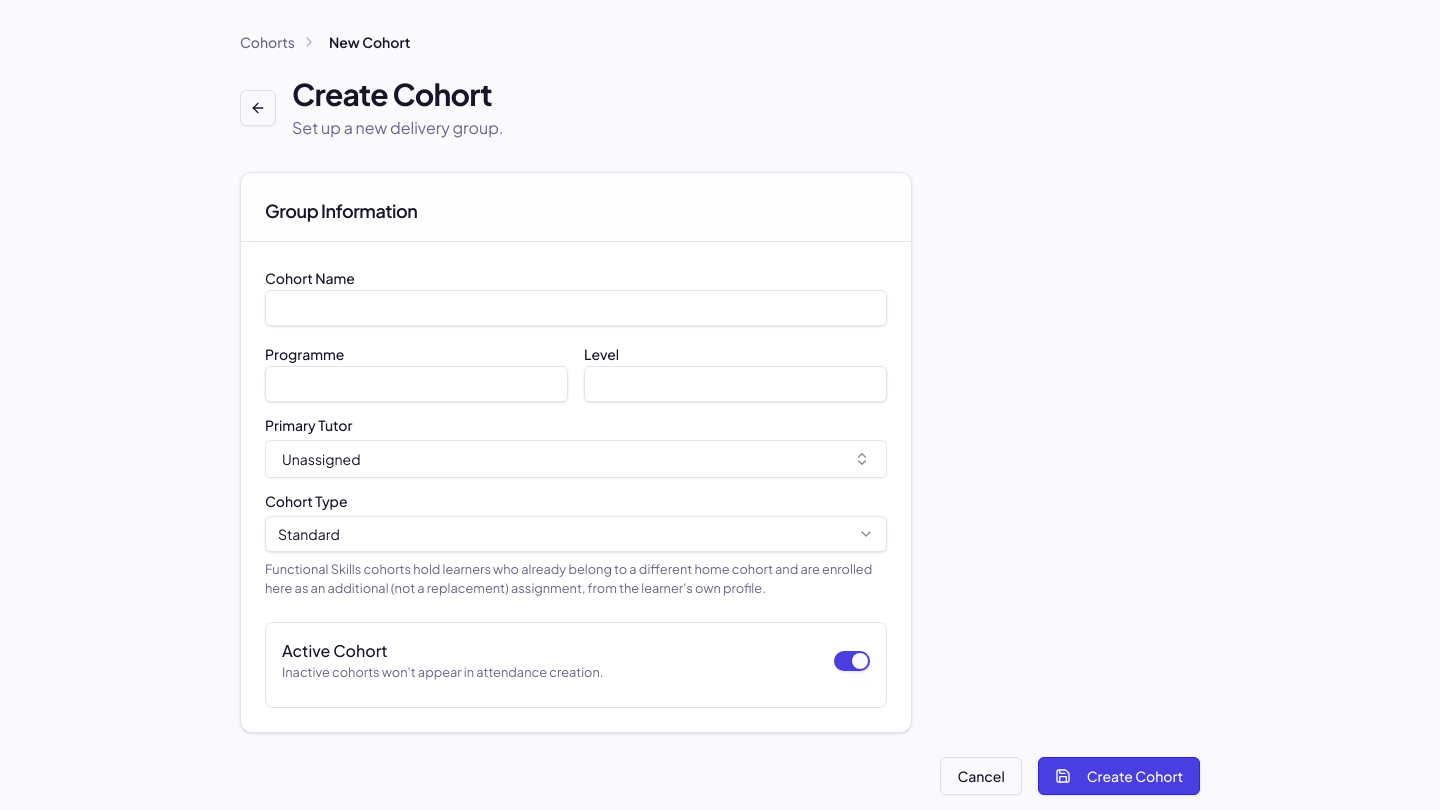
Test: CohortDetailPage primary tutor field › lets a tutor far down a long list be found by typing, instead of only scrolling a fixed-height list
Click the dropdown named "primary tutor".
click(321, 459)  # box [265, 440, 887, 478]
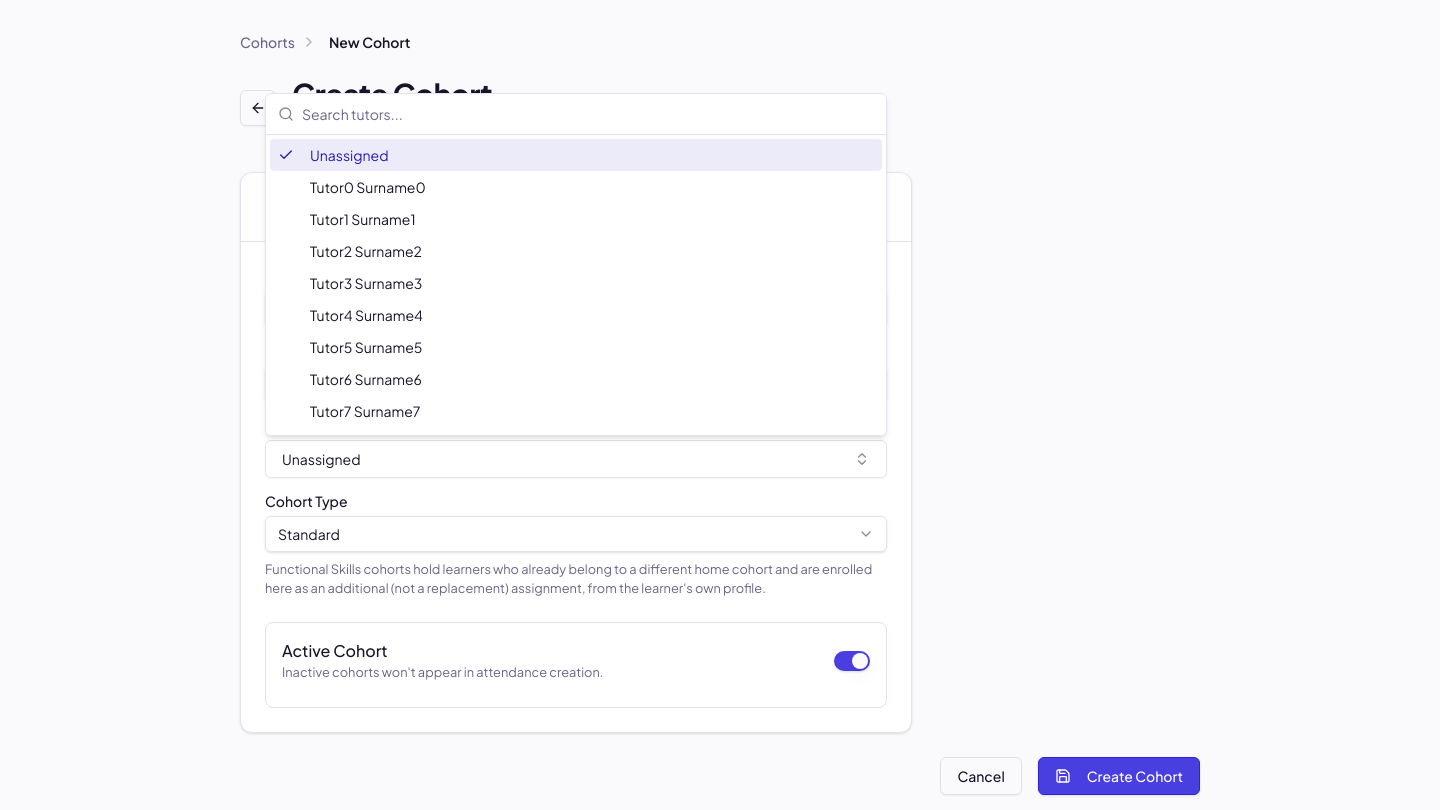
Type "Ziegler" into the dropdown with placeholder "Search tutors...".
click(588, 114); type("Ziegler")  # box [302, 94, 874, 134]
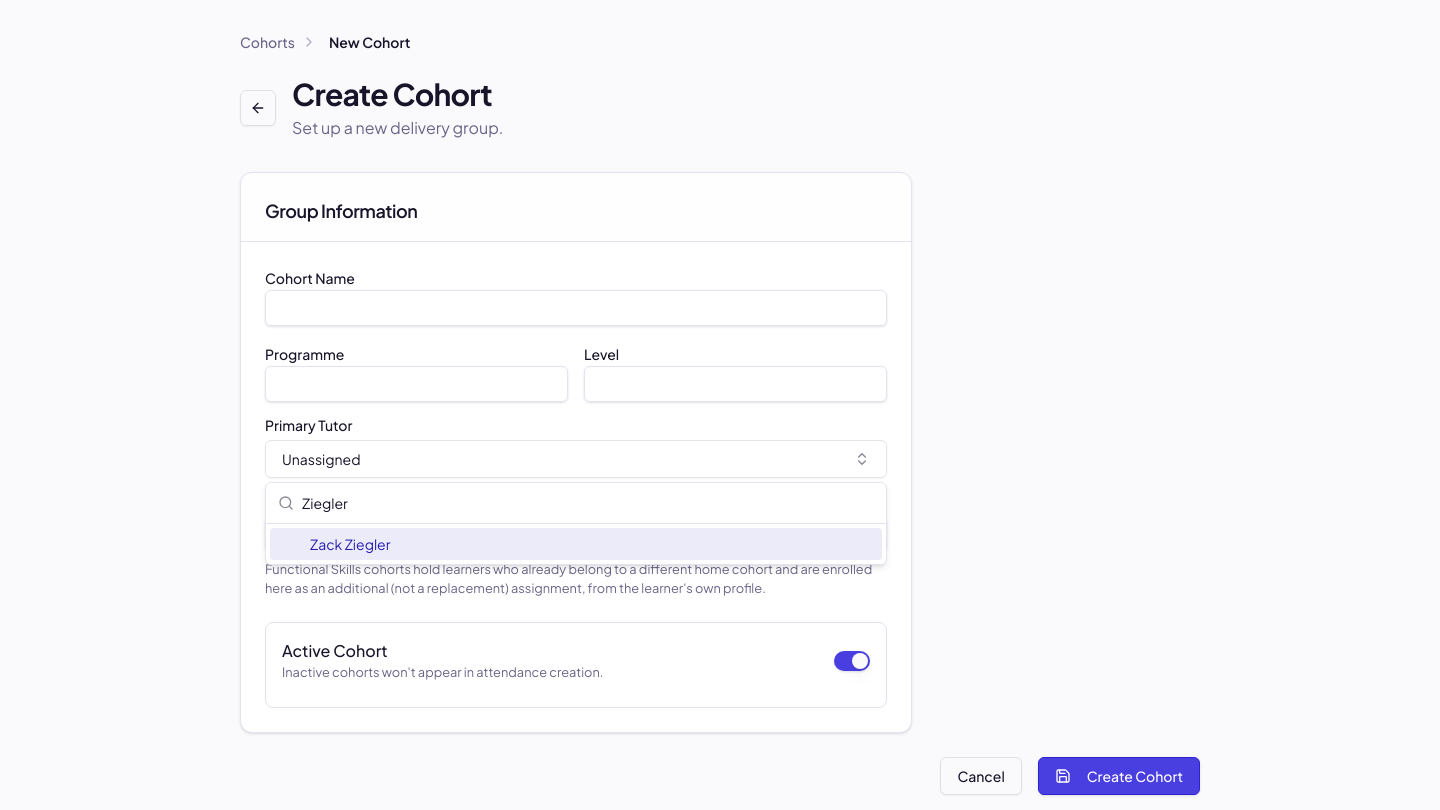
Expected: the option "Zack Ziegler" is shown
Expected: the option "Tutor0 Surname0" is gone
Click the option "Zack Ziegler".
click(350, 544)  # box [270, 528, 882, 560]
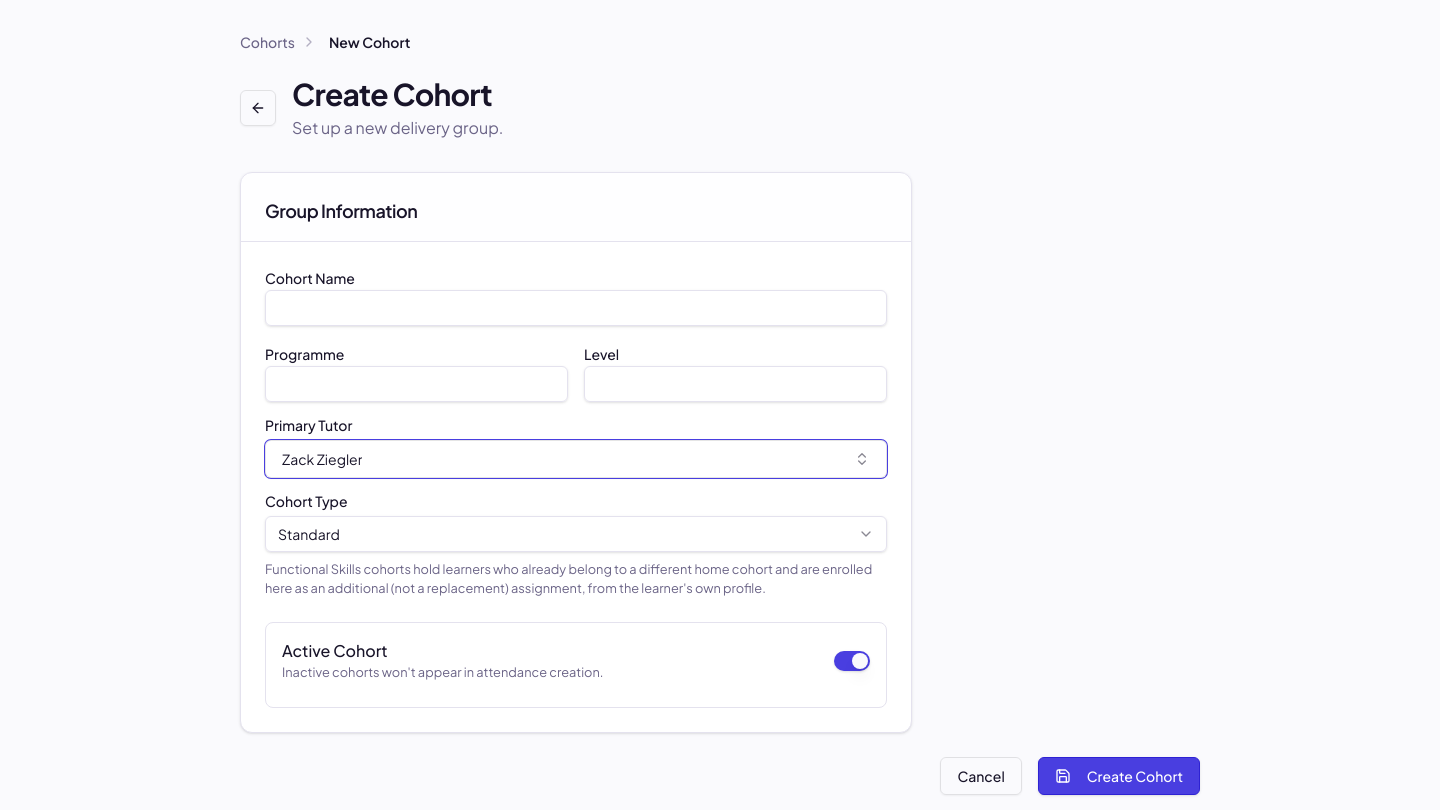
Expected: the dropdown named "primary tutor" reads "Zack Ziegler", [265, 440, 887, 478]
